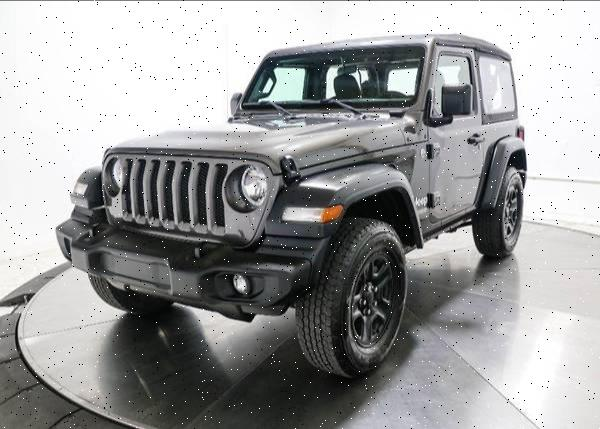Front_Bumper: (52, 214, 331, 324)
Front_Fender: (264, 139, 434, 242), (71, 164, 104, 228)
Front_Left_Door: (428, 115, 487, 231)
Front_Left_Window: (428, 45, 481, 119)
Front_Windshield: (241, 45, 425, 113)
Grille: (109, 151, 270, 246)
Hood: (100, 107, 430, 171)
Left_Headlight: (231, 162, 277, 211)
Rear_Fender: (475, 53, 524, 210)
Right_Headlight: (105, 156, 127, 198)
Roof: (262, 29, 505, 111)
Wheel: (299, 214, 414, 374), (473, 167, 527, 254)
